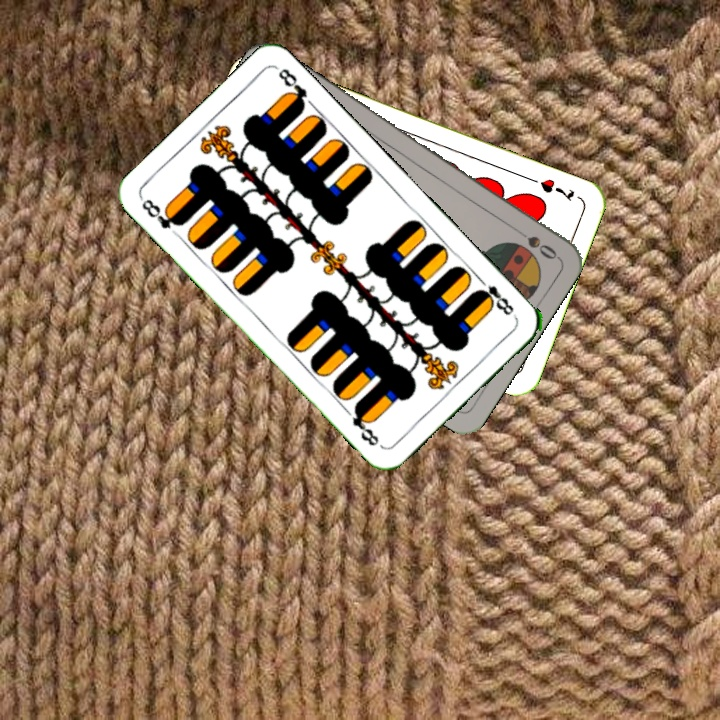E8: (472, 273, 517, 318), (137, 194, 186, 232)
H7: (525, 173, 577, 204)
SO: (508, 222, 560, 263)
